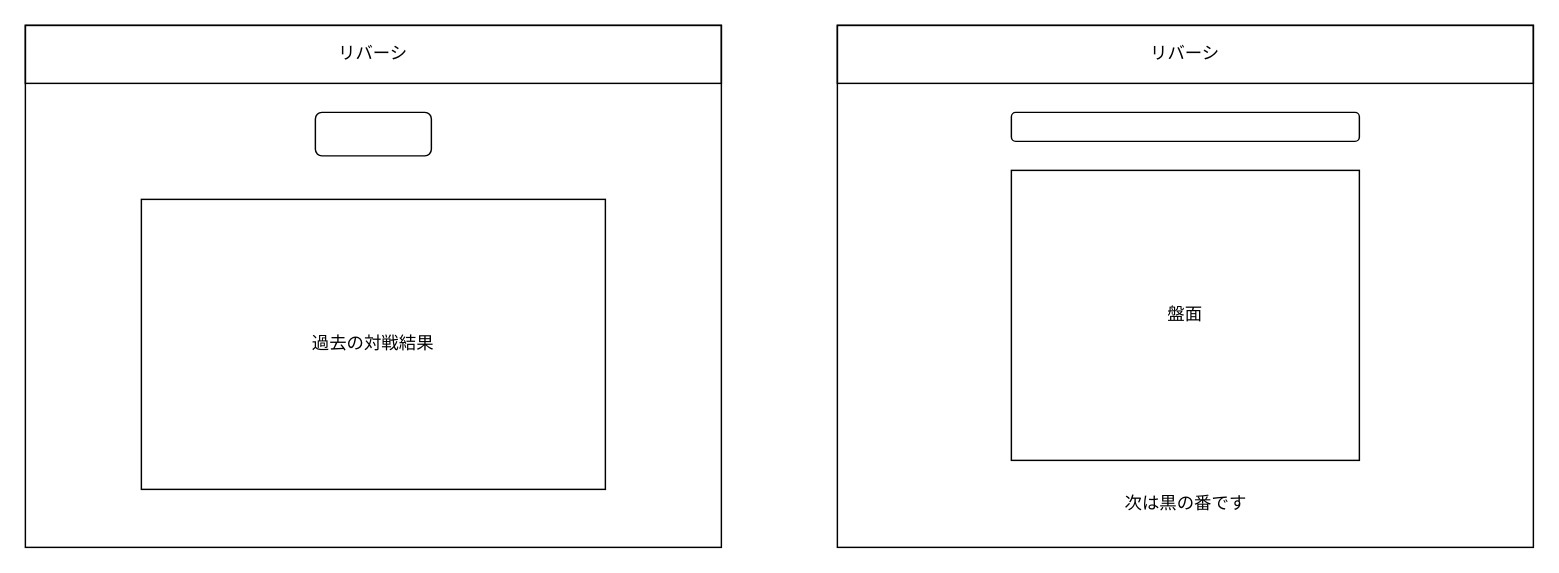
Some shapes in this 1559 by 573 pixel diagram are drawn without their labels. The shapes that lost their labels are listed below. From the top down, each one's box as (x1, y1, x2, y2) in pixels, then its label:
(314, 111, 431, 156): 対戦する
(1010, 111, 1359, 141): 白の番はスキップです
